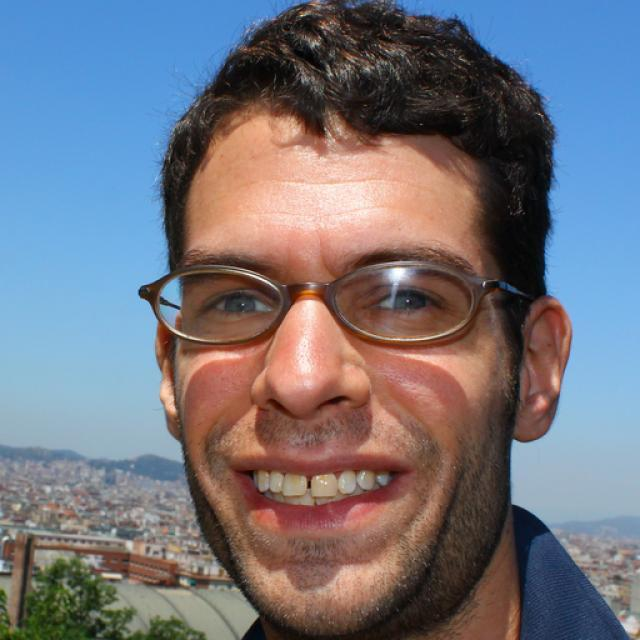happy: (173, 123, 518, 632)
